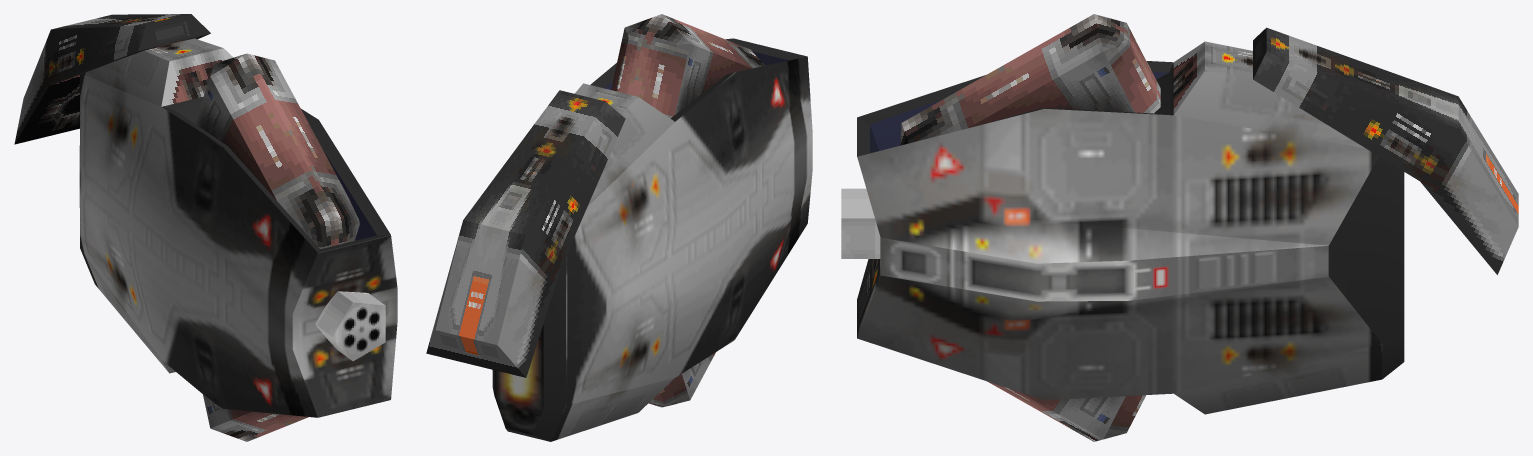
Rendered from defender.FBX.
The picture shows the model from 3 angles, left to right: view 1: azimuth 30°, elevation 25°; view 2: azimuth 150°, elevation 25°; view 3: azimuth 270°, elevation 25°; orthographic projection. The views are drawn at different scales.
Parts seen in each view (by area): view 1: LightDefender, LightDefenderShoulder_1_, LightDefenderArm_1_, LightDefenderGun_1_, LightDefenderGun_2_, LightDefenderShoulder_2_; view 2: LightDefender, LightDefenderArm_1_, LightDefenderShoulder_1_, LightDefenderShoulder_2_; view 3: LightDefender, LightDefenderArm_1_, LightDefenderShoulder_1_, LightDefenderShoulder_2_, LightDefenderGun_1_.
Part boxes in pixels (box(x1,y1,x2,y2)): LightDefender: box(79, 38, 397, 417); LightDefenderShoulder_1_: box(195, 53, 359, 248); LightDefenderArm_1_: box(14, 14, 210, 144); LightDefenderGun_1_: box(315, 291, 385, 359); LightDefenderGun_2_: box(315, 303, 385, 361); LightDefenderShoulder_2_: box(203, 394, 308, 441); LightDefender: box(492, 38, 812, 441); LightDefenderArm_1_: box(426, 90, 625, 377); LightDefenderShoulder_1_: box(611, 14, 764, 118); LightDefenderShoulder_2_: box(648, 352, 715, 407); LightDefender: box(857, 41, 1404, 414); LightDefenderArm_1_: box(1253, 27, 1518, 274); LightDefenderShoulder_1_: box(900, 14, 1160, 145); LightDefenderShoulder_2_: box(987, 381, 1146, 441); LightDefenderGun_1_: box(841, 188, 880, 257).
Size of the model in its own units: 14.55 by 31.94 by 45.82.
18 materials, 15 textured.
